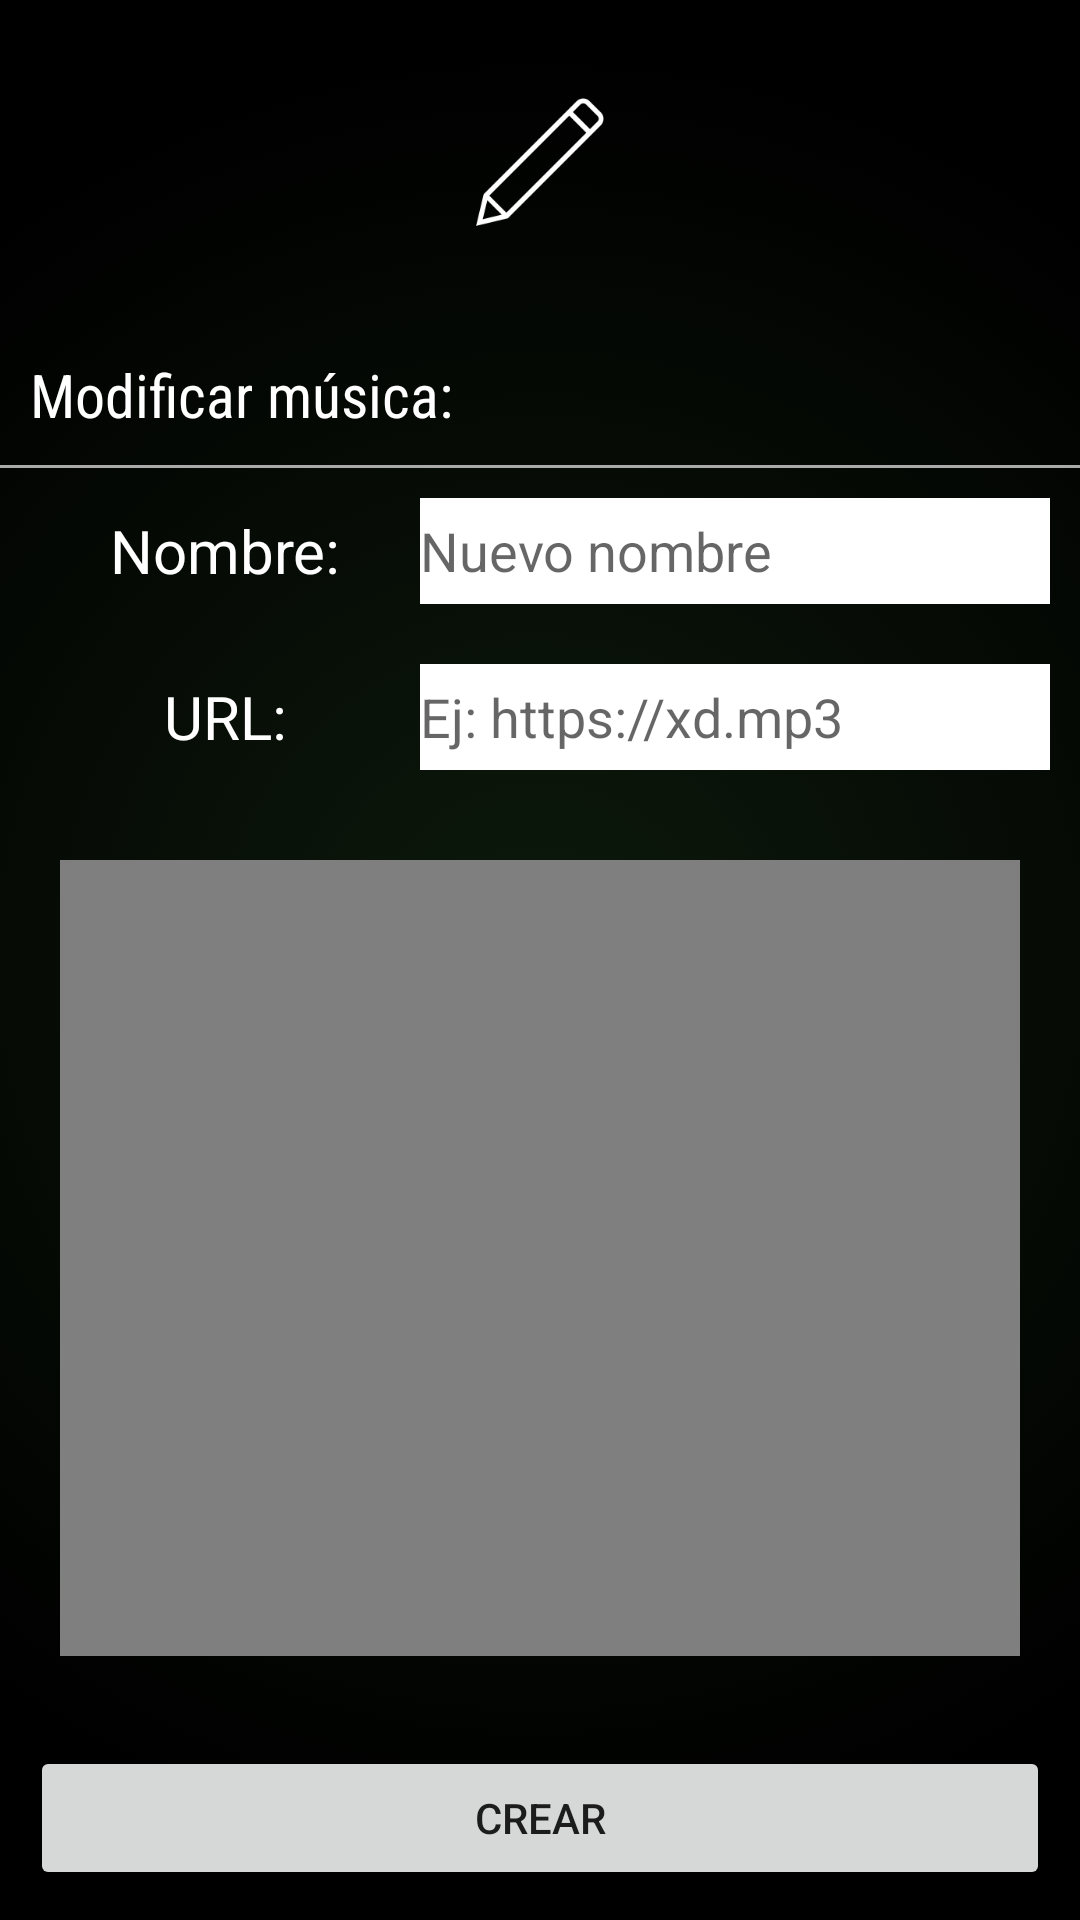

Screen size 1080px×1920px. Icon name, then its center in pixels as point (x, y):
edit: point (540, 162)
